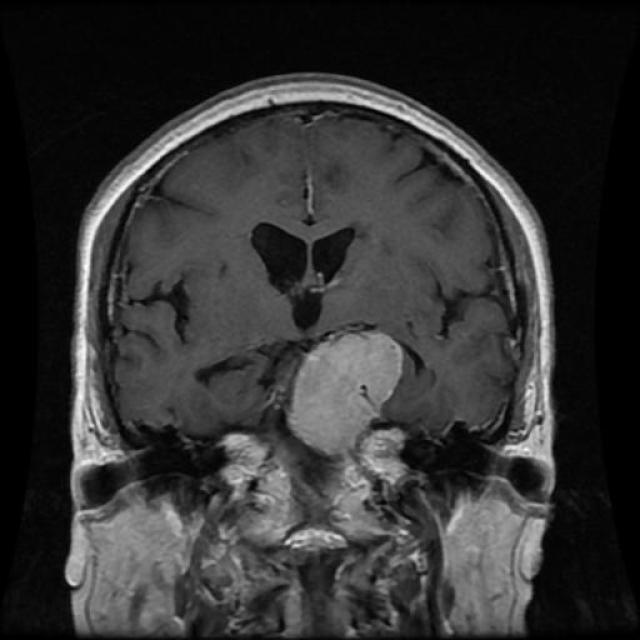meningioma: (291, 330, 400, 455)
